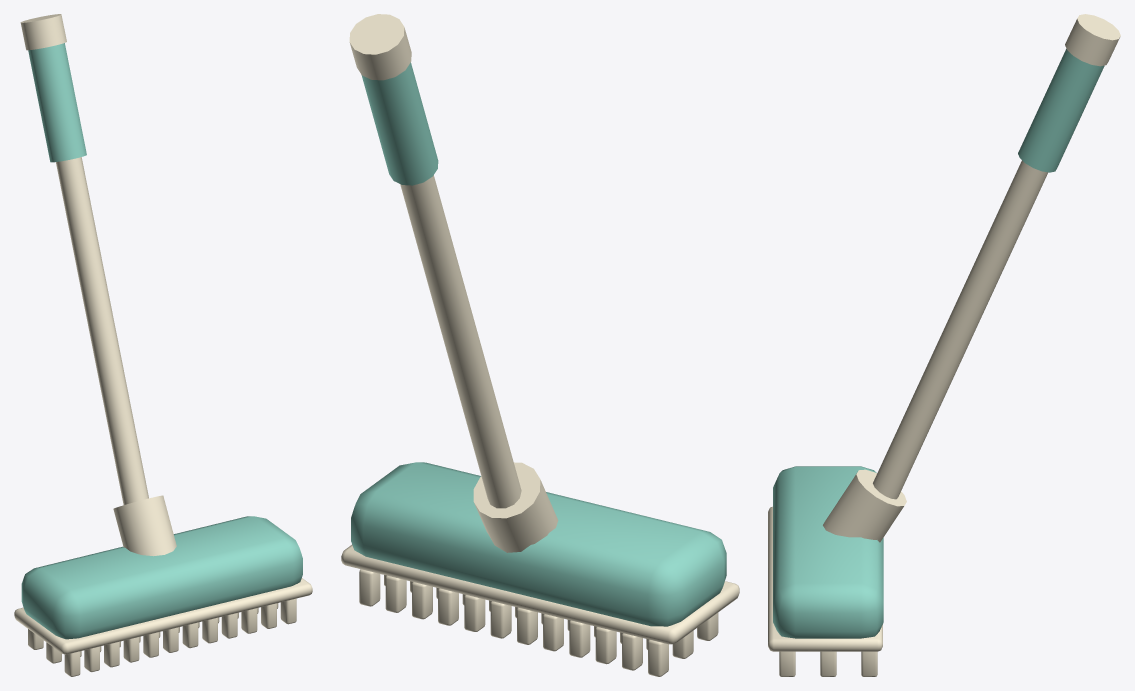
Rendered from tier_0_current_plastic.glb.
The picture shows the model from 3 angles, left to right: view 1: azimuth 30°, elevation 25°; view 2: azimuth 150°, elevation 25°; view 3: azimuth 270°, elevation 25°; orthographic projection. The views are drawn at different scales.
Parts seen in each view (by area): view 1: BrushTier0_Plastic; view 2: BrushTier0_Plastic; view 3: BrushTier0_Plastic.
Boxes of the visible parts, x1=… form: BrushTier0_Plastic: x1=14, y1=14, x2=312, y2=676; BrushTier0_Plastic: x1=341, y1=14, x2=739, y2=676; BrushTier0_Plastic: x1=768, y1=14, x2=1120, y2=676.
Size of the model in its own units: 0.79 by 1.61 by 0.8603.
